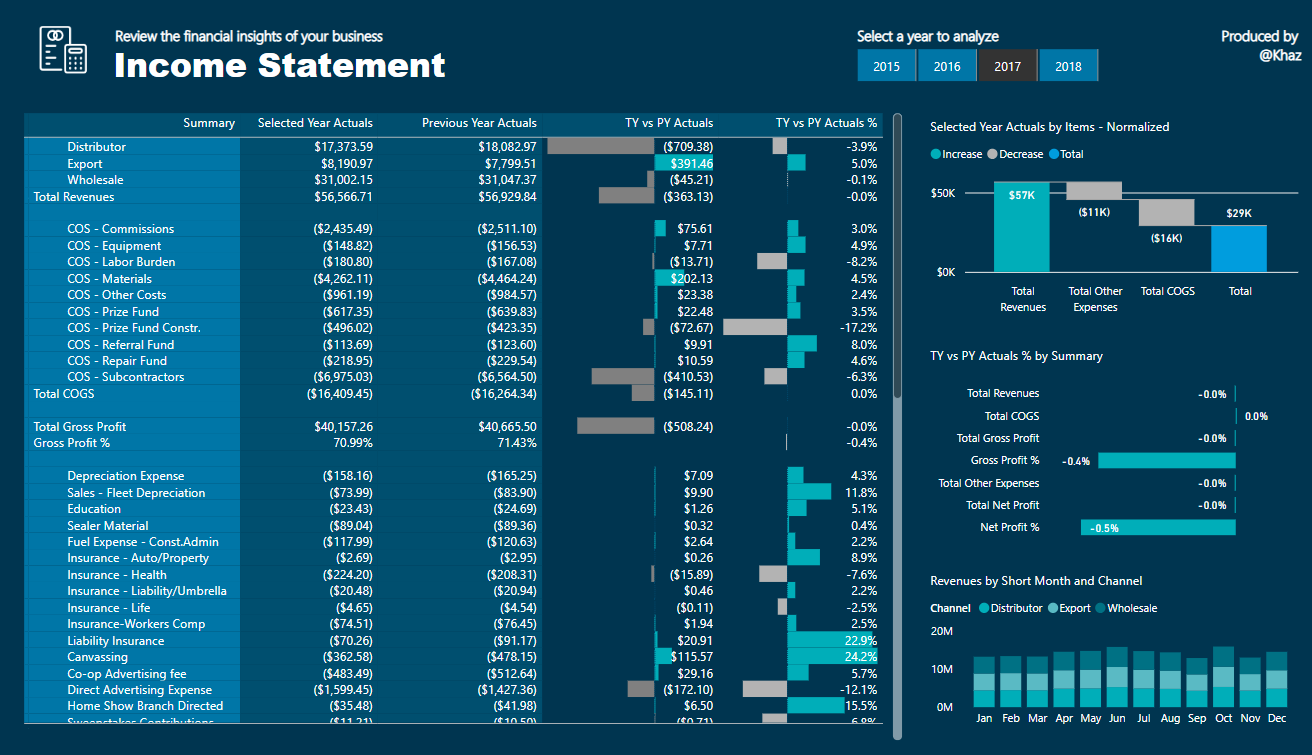

Layout of this report page (visuals, bound fields, positions):
{"tool":"powerbi","page":{"name":"Income Statement","canvas":[1280,720],"ordinal":1},"visuals":[{"type":"waterfallChart","fields":{"Category":["Income Statement Template.Items - Normalized"],"Y":["Annualized Analysis.Selected Year Actuals"]},"box":[900.3,95.4,368,198.3],"z":0},{"type":"columnChart","fields":{"Y":["Income Statement Analysis.Revenues"],"Category":["Dates.Short Month"],"Series":["Sales.Channel"]},"box":[900.3,536.6,368,160.1],"z":1000},{"type":"image","box":[18.5,0.9,88,55.6],"z":2000},{"type":"textbox","box":[829.3,0,202.2,34.4],"z":3000},{"type":"textbox","box":[107.6,0,291.5,34.4],"z":4000},{"type":"textbox","box":[1139,0,133.3,56.4],"z":5000},{"type":"textbox","box":[105.9,15.1,348.1,59.5],"z":6000},{"type":"slicer","fields":{"Values":["Dates.Year"]},"box":[808.9,21.5,284,45.2],"z":8000},{"type":"tableEx","fields":{"Values":["Income Statement Template.Row Index","Income Statement Template.Summary","Income Statement Analysis.Selected Year Actuals","Annualized Analysis.Previous Year Actuals","Annualized Analysis.TY vs PY Actuals","Annualized Analysis.TY vs PY Actuals %"]},"box":[18,85.9,865.4,620.4],"z":9000},{"type":"barChart","fields":{"Y":["Annualized Analysis.TY vs PY Actuals %"],"Category":["Income Statement Template.Summary"]},"box":[900.3,318.1,368,197.2],"z":10000}]}

Visuals, with their boxes in screenshot pixels (x1, y1, x2, y2), scaled from the page's 1280x720 canvas onto the 1312x755 screenshot:
waterfallChart - Income Statement Template.Items - Normalized x Annualized Analysis.Selected Year Actuals: bbox=[923, 100, 1300, 308]
columnChart - Income Statement Analysis.Revenues x Dates.Short Month: bbox=[923, 563, 1300, 731]
image: bbox=[19, 1, 109, 59]
textbox: bbox=[850, 0, 1057, 36]
textbox: bbox=[110, 0, 409, 36]
textbox: bbox=[1167, 0, 1304, 59]
textbox: bbox=[109, 16, 465, 78]
slicer - Dates.Year: bbox=[829, 23, 1120, 70]
tableEx - Income Statement Template.Row Index x Income Statement Template.Summary: bbox=[18, 90, 905, 741]
barChart - Annualized Analysis.TY vs PY Actuals % x Income Statement Template.Summary: bbox=[923, 334, 1300, 540]
